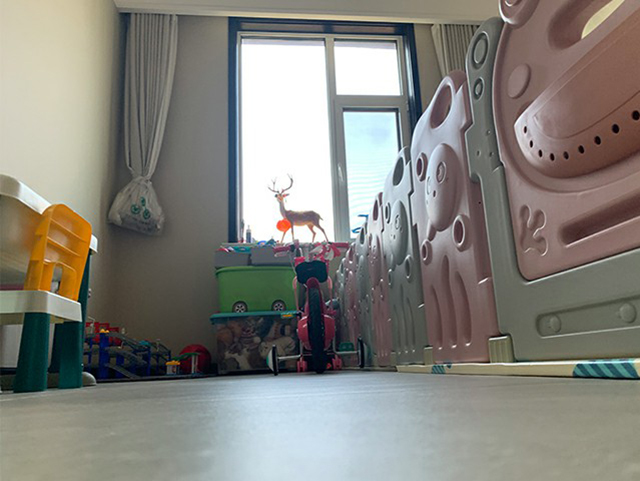stool: (1, 203, 93, 395)
table: (1, 173, 99, 392)
